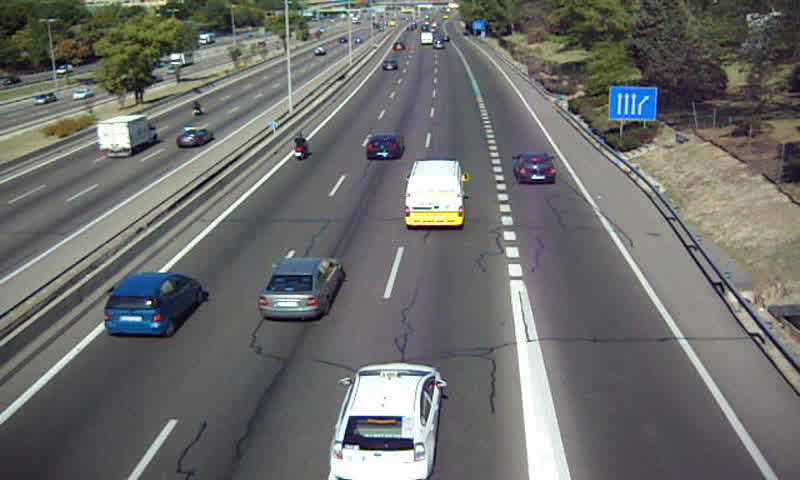car: (332, 362, 439, 480), (102, 272, 202, 339), (258, 255, 345, 318), (513, 151, 559, 184), (365, 132, 406, 161), (380, 59, 400, 73)
motorcycle: (292, 133, 308, 163)
van: (404, 160, 465, 227)
